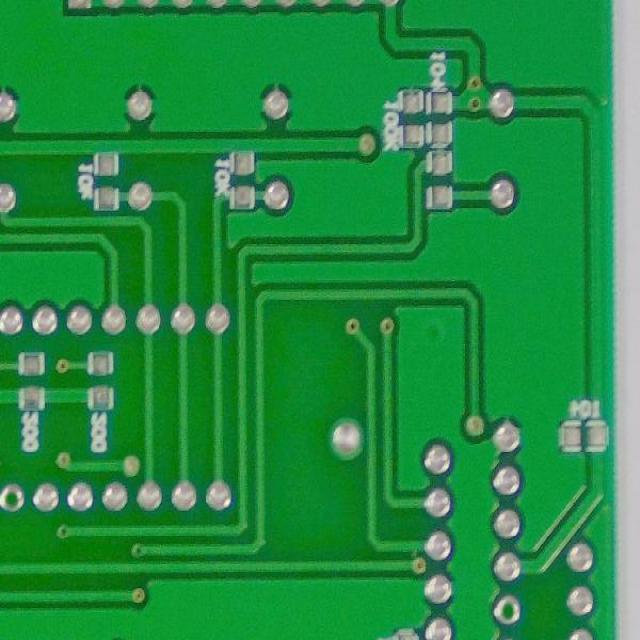missing hole: (490, 592, 527, 631), (1, 482, 28, 518)
